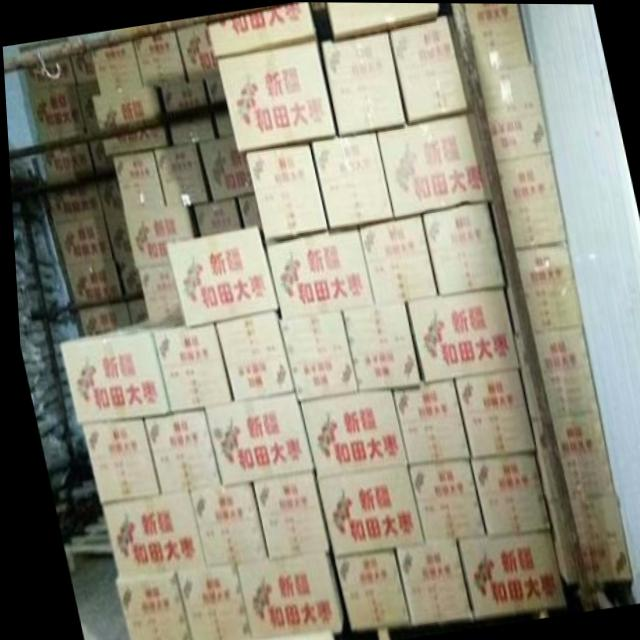box: (217, 41, 335, 151), (376, 111, 490, 217), (164, 226, 275, 327), (404, 285, 516, 384), (56, 331, 165, 425), (200, 392, 308, 486), (264, 228, 371, 319), (312, 464, 417, 555), (229, 551, 336, 640), (295, 388, 402, 477), (452, 528, 559, 616), (97, 491, 200, 578), (322, 31, 404, 135), (390, 15, 467, 122), (310, 132, 391, 227), (245, 144, 325, 240), (421, 201, 502, 295), (149, 321, 229, 412), (357, 214, 434, 306), (451, 368, 530, 457), (212, 311, 290, 401), (276, 312, 354, 400), (339, 302, 415, 391), (478, 63, 548, 159), (495, 151, 565, 247), (184, 482, 262, 567), (389, 538, 466, 624), (466, 451, 544, 535), (139, 408, 215, 494), (248, 471, 323, 558), (78, 418, 154, 502), (389, 379, 464, 464), (403, 458, 479, 539), (530, 325, 595, 416), (511, 244, 578, 332), (208, 2, 317, 56), (328, 549, 401, 629), (170, 564, 245, 640), (546, 409, 608, 495), (91, 84, 166, 155), (564, 493, 625, 580), (109, 573, 183, 640), (121, 202, 192, 267), (464, 3, 530, 71), (328, 2, 438, 40), (197, 134, 252, 201), (160, 78, 213, 145), (153, 142, 206, 205), (26, 83, 83, 137), (133, 30, 185, 88), (111, 151, 162, 209), (90, 40, 141, 94), (52, 216, 110, 263), (135, 264, 180, 320), (96, 180, 129, 256), (63, 259, 118, 304), (177, 24, 220, 80), (39, 143, 90, 184), (46, 183, 100, 221), (204, 73, 233, 136), (192, 198, 239, 236), (75, 303, 127, 336), (23, 58, 74, 91), (76, 80, 99, 133), (114, 254, 139, 291), (71, 50, 96, 83), (236, 193, 259, 228), (88, 140, 112, 167), (124, 300, 145, 323)
